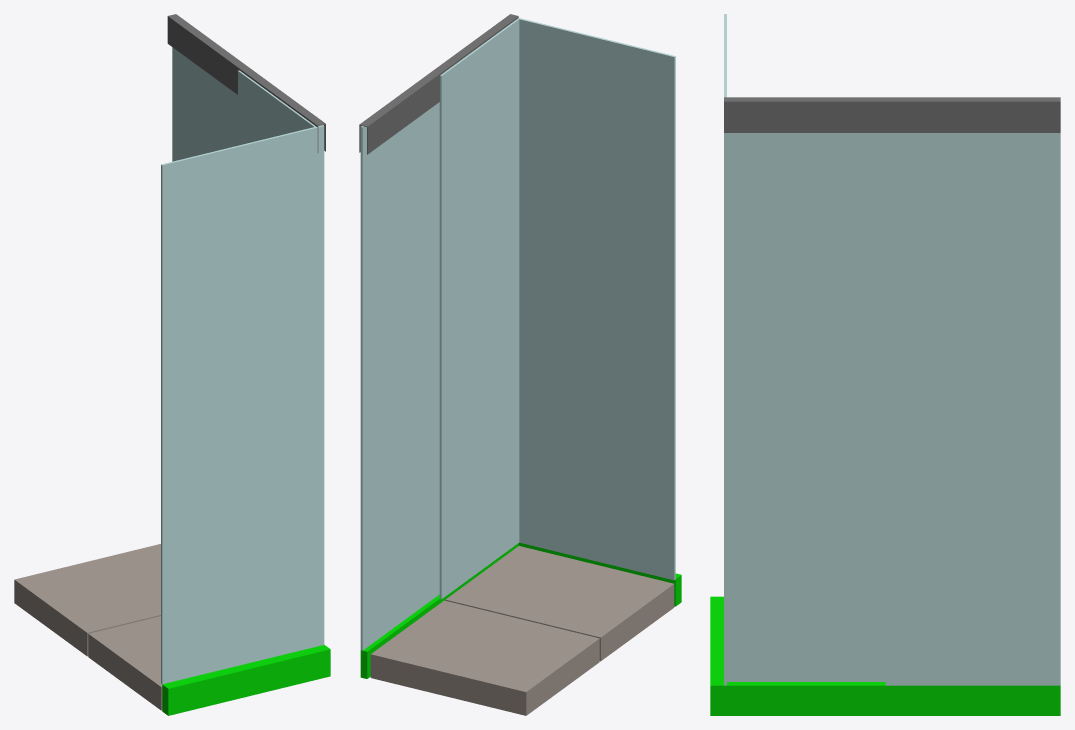
The model's file is Bath03ShowerCabin.fbx.
3 views of the same model, side by side, from view 1: azimuth 30°, elevation 25°; view 2: azimuth 150°, elevation 25°; view 3: azimuth 270°, elevation 25° (orthographic). The views are drawn at different scales.
Parts seen in each view (by area): view 1: Window4, ShowerCabinetFloor1, polySurface1, Window5, ShowerCabinetFloor2, Window2, UpperFrame; view 2: Window4, Window2, Window5, ShowerCabinetFloor1, ShowerCabinetFloor2, UpperFrame, polySurface1; view 3: Window5, Window2, polySurface1, UpperFrame, Window4.
Part boxes in pixels (x1,y1,x2,y2): Window4: [161, 125, 324, 684]; ShowerCabinetFloor1: [14, 544, 160, 656]; polySurface1: [162, 645, 330, 715]; Window5: [172, 47, 237, 161]; ShowerCabinetFloor2: [88, 616, 162, 710]; Window2: [238, 70, 317, 645]; UpperFrame: [167, 14, 325, 152]; Window4: [519, 18, 675, 580]; Window2: [439, 18, 519, 598]; Window5: [360, 102, 439, 650]; ShowerCabinetFloor1: [370, 600, 599, 715]; ShowerCabinetFloor2: [445, 546, 674, 661]; UpperFrame: [359, 14, 518, 154]; polySurface1: [360, 542, 681, 678]; Window5: [885, 133, 1060, 685]; Window2: [727, 133, 885, 681]; polySurface1: [710, 596, 1060, 715]; UpperFrame: [724, 97, 1060, 132]; Window4: [724, 14, 726, 685].
Bounding box in the file's own units: 72.69 × 232 × 120.
